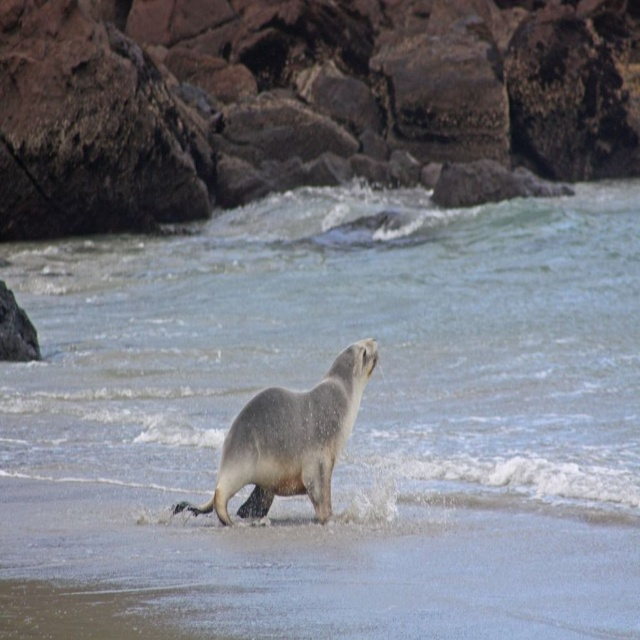Otter: (171, 339, 381, 527)
